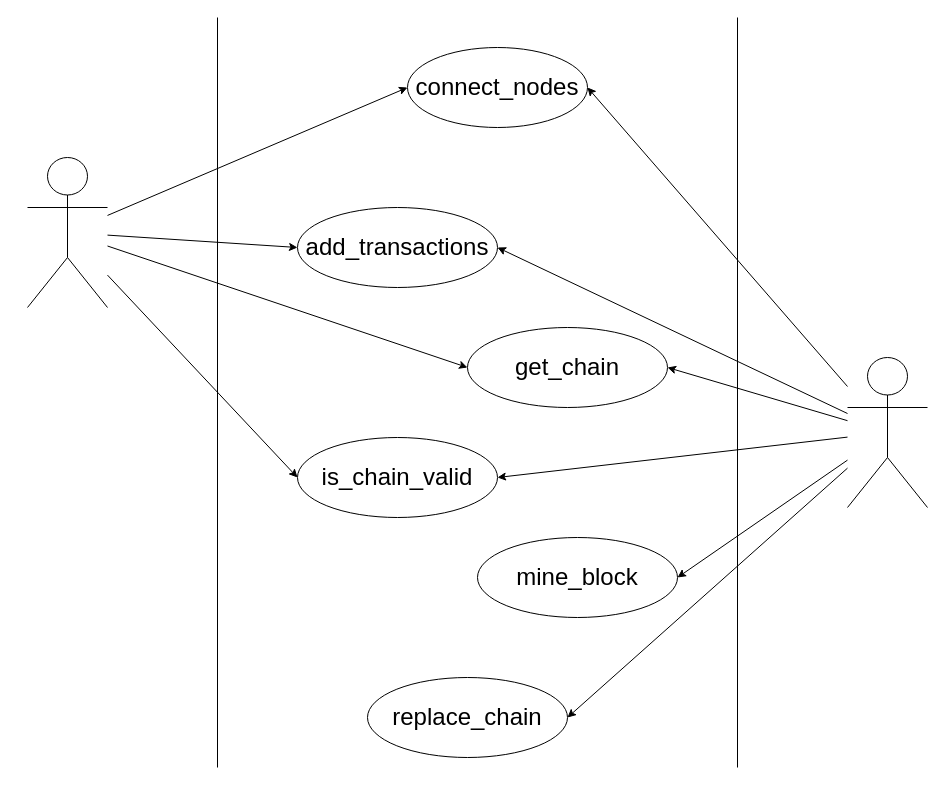
Image size: 945x786. Some labels were removed from this diagram. The box of each missing label's shape, as (x1, y1, x2, y2) in pixels:
End User: (26, 156, 108, 308)
Miner: (846, 356, 928, 508)
